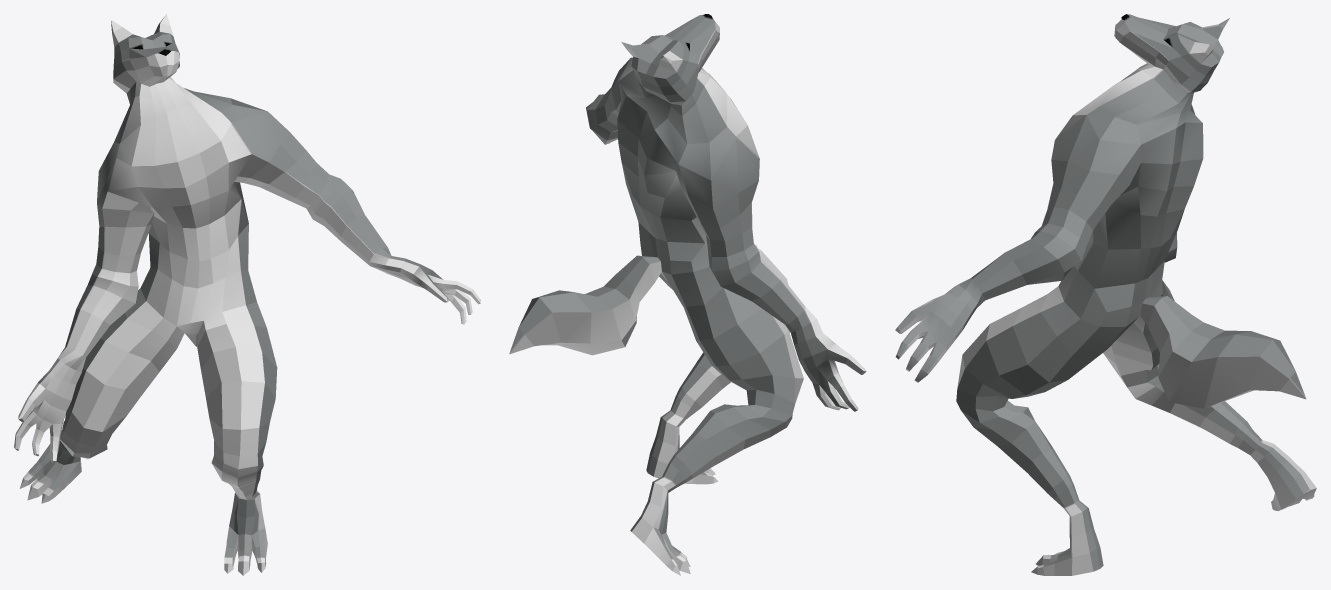
The model's file is WolfDead(13).obj.
3 views of the same model, side by side, from view 1: azimuth 30°, elevation 25°; view 2: azimuth 150°, elevation 25°; view 3: azimuth 270°, elevation 25° (orthographic). The views are drawn at different scales.
Parts seen in each view (by area): view 1: Box001; view 2: Box001; view 3: Box001.
Boxes of the visible parts, left/top/right/bottom form: Box001: left=14, top=14, right=480, bottom=575; Box001: left=509, top=14, right=866, bottom=575; Box001: left=895, top=14, right=1316, bottom=575.
Size of the model in its own units: 105 by 140 by 101.
